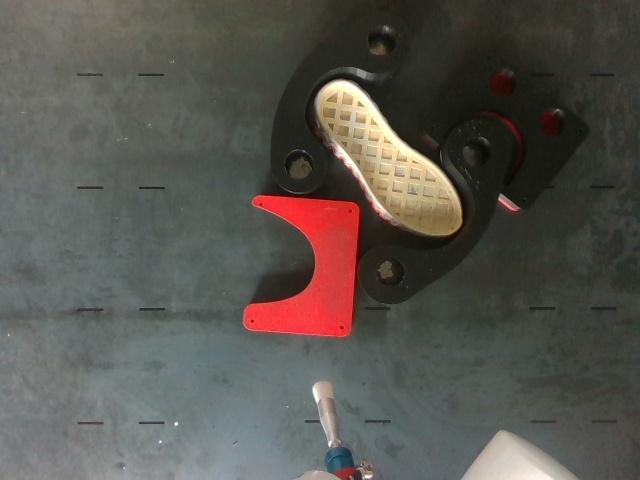shoes: (319, 80, 462, 236)
